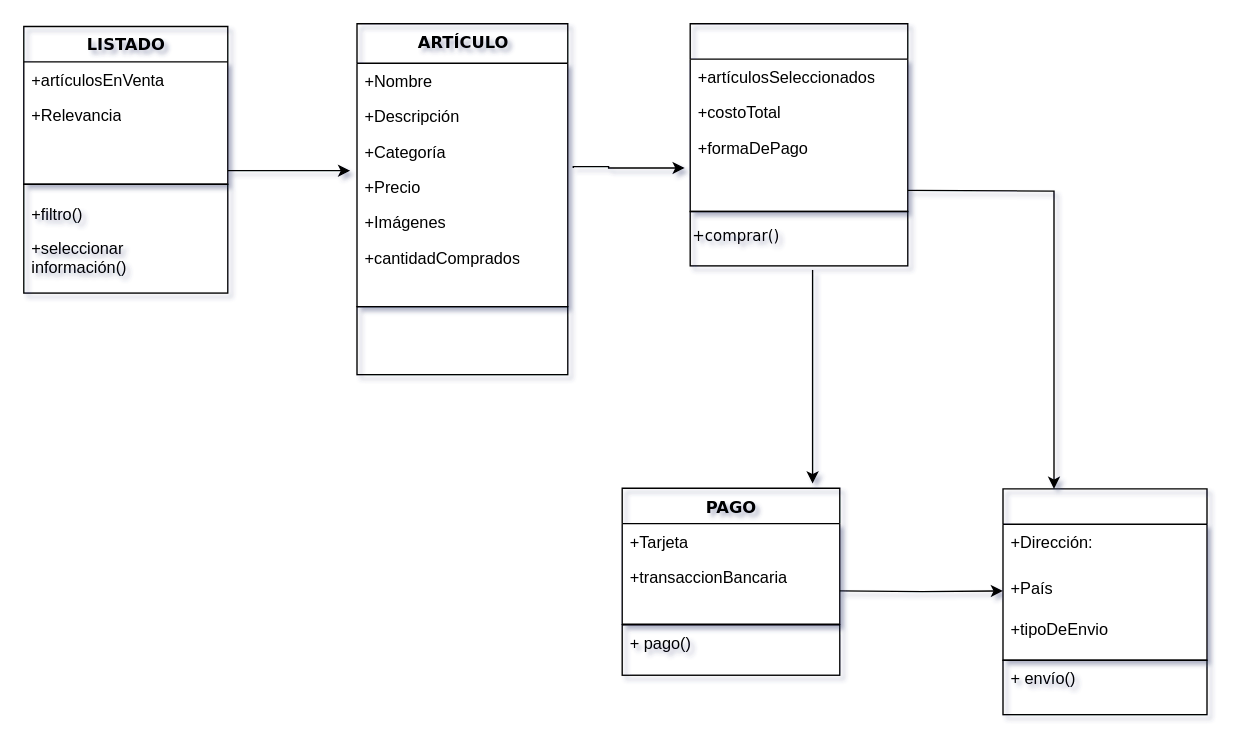
Some shapes in this 1253 by 747 pixel diagram are drawn without their labels. Here are the shapes that lost their labels. From the top down, the box of each, then its label:
(689, 22, 908, 211): CARRITO
(356, 305, 568, 375): +agregarAlCarrito()
(1002, 488, 1207, 660): ENVÍO
